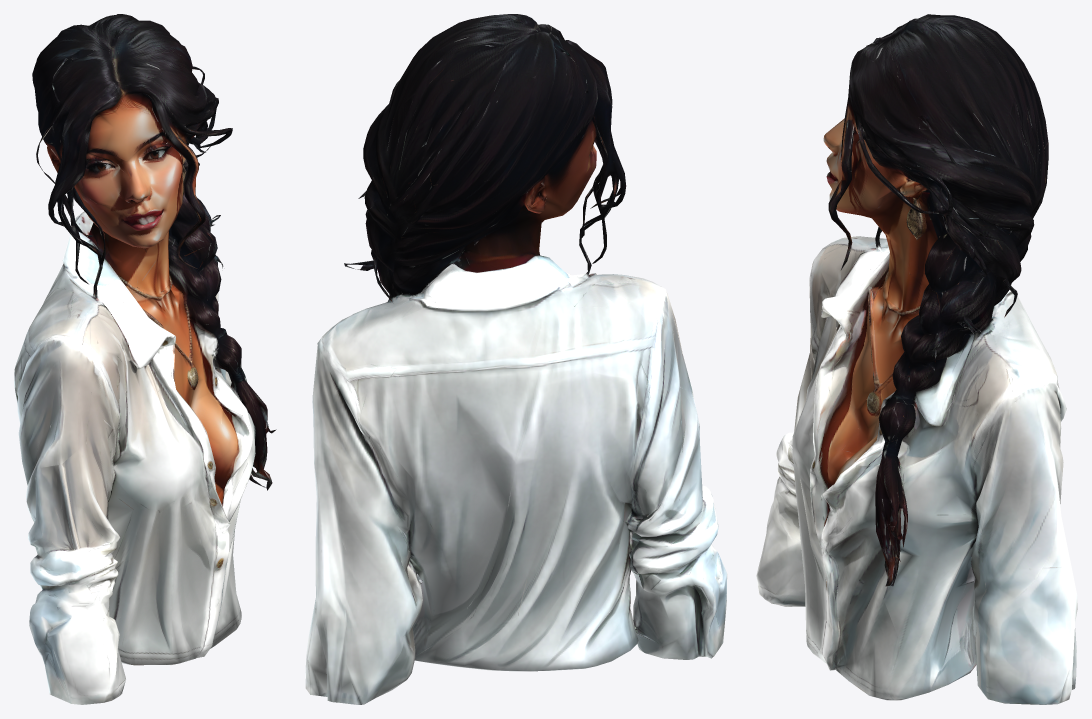
Rendered from Meshy_AI_Gilded_Gaze_0704224322_texture.glb.
The picture shows the model from 3 angles, left to right: view 1: azimuth 30°, elevation 25°; view 2: azimuth 150°, elevation 25°; view 3: azimuth 270°, elevation 25°; orthographic projection. The views are drawn at different scales.
Visible parts, largest first — view 1: Mesh_0; view 2: Mesh_0; view 3: Mesh_0.
Boxes of the visible parts, left/top/right/bottom form: Mesh_0: left=14, top=14, right=276, bottom=704; Mesh_0: left=305, top=14, right=727, bottom=704; Mesh_0: left=756, top=14, right=1077, bottom=704.
Size of the model in its own units: 0.9265 by 1.91 by 0.8802.
1 material, 1 textured.
